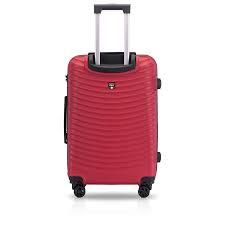suitcase: (63, 4, 162, 199)
